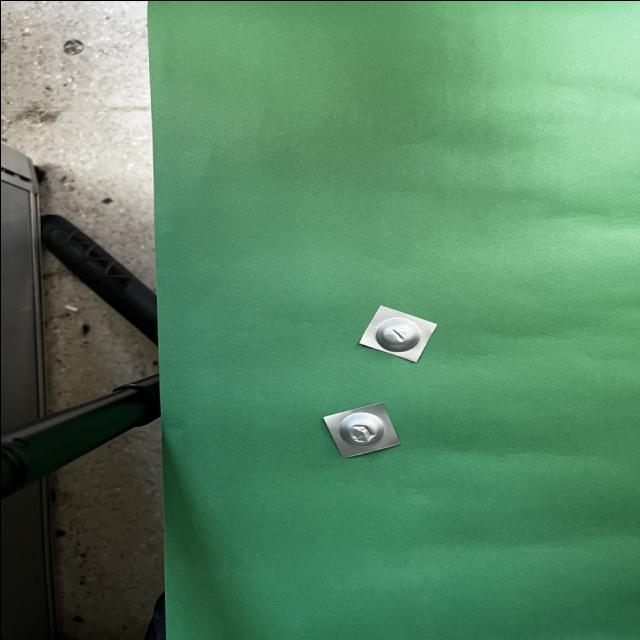Other Objects: (358, 305, 434, 362), (323, 402, 399, 456)
